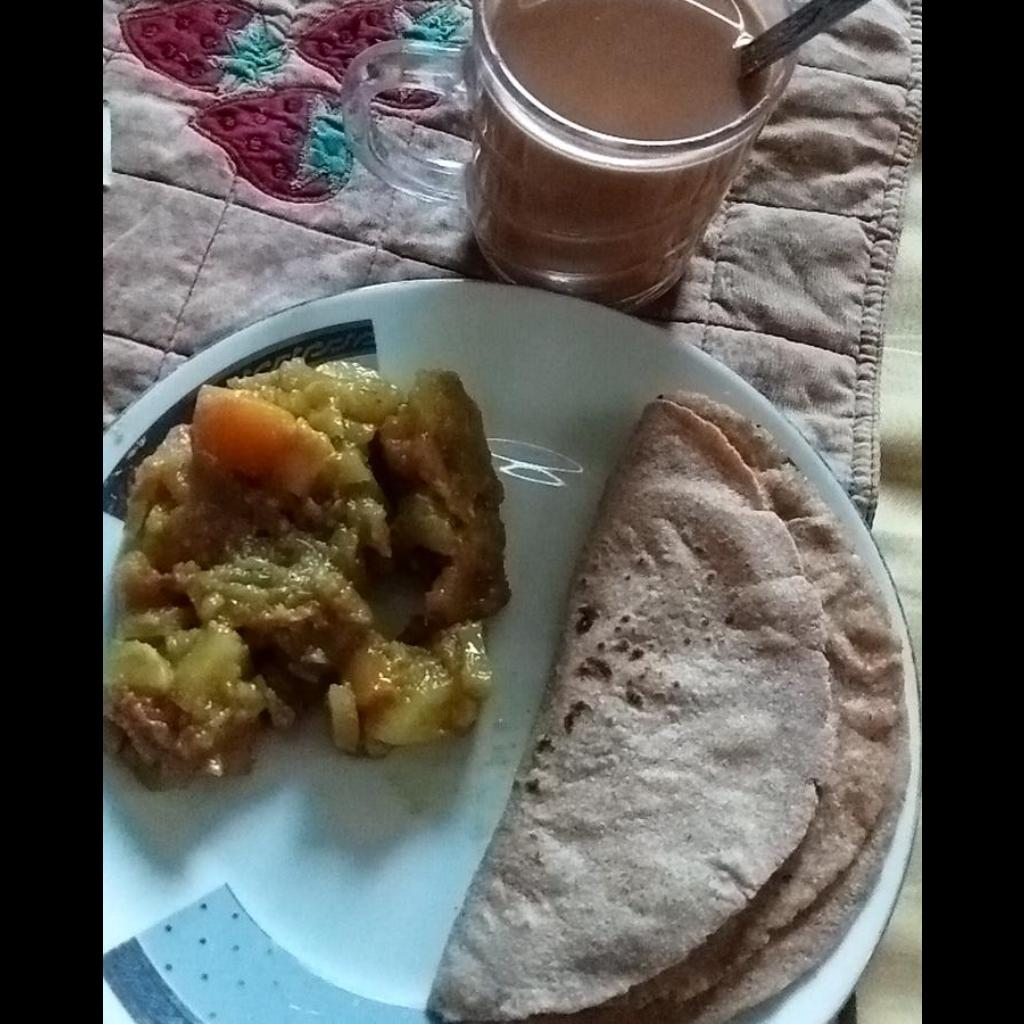cha: (492, 1, 767, 141)
ruti: (422, 389, 912, 1019)
vegetable: (102, 356, 510, 783)
